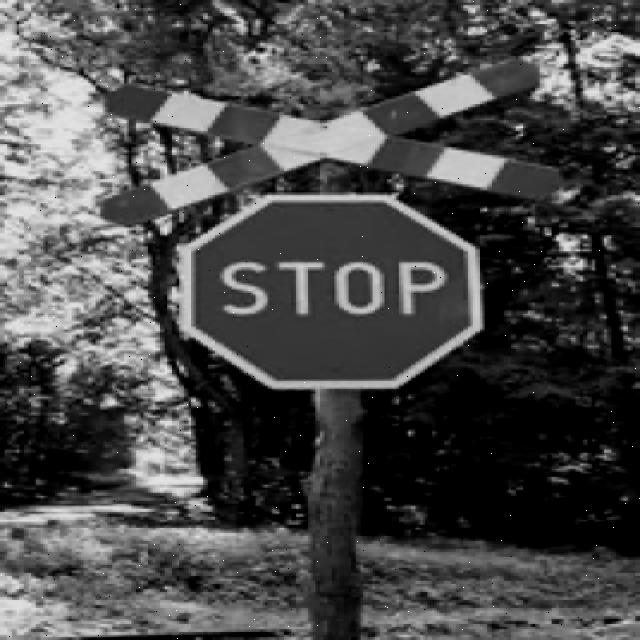Stop-signs: (182, 195, 483, 389)
